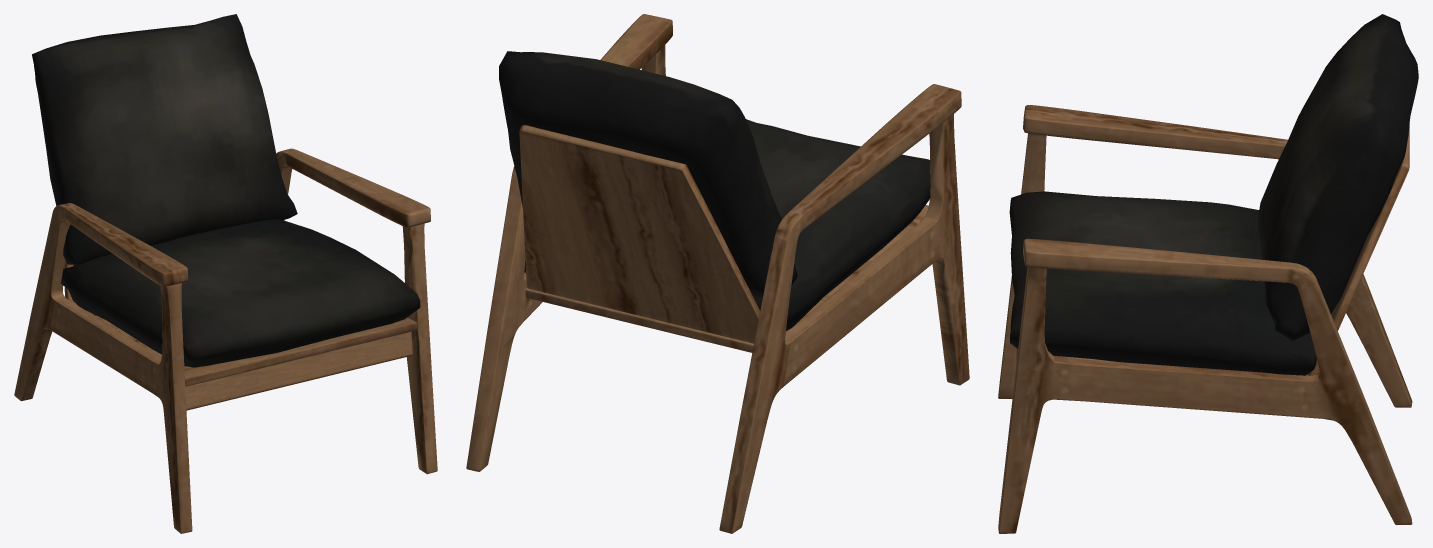
File: modern_arm_chair_01.glb
3 views of the same model, side by side, from view 1: azimuth 30°, elevation 25°; view 2: azimuth 150°, elevation 25°; view 3: azimuth 270°, elevation 25° (orthographic). The views are drawn at different scales.
Visible parts, largest first — view 1: modern_arm_chair_01; view 2: modern_arm_chair_01; view 3: modern_arm_chair_01.
Part boxes in pixels (x1,y1,x2,y2): modern_arm_chair_01: (14, 14, 437, 533); modern_arm_chair_01: (466, 14, 969, 533); modern_arm_chair_01: (998, 14, 1418, 533).
Size of the model in its own units: 0.8203 by 1.02 by 0.9866.
Materials: 2 (2 with a texture image).
